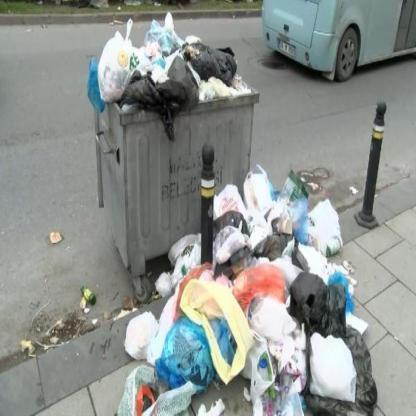Garbage: (218, 183, 375, 416), (118, 310, 224, 416), (164, 269, 260, 386), (92, 37, 248, 98), (170, 242, 198, 272)
